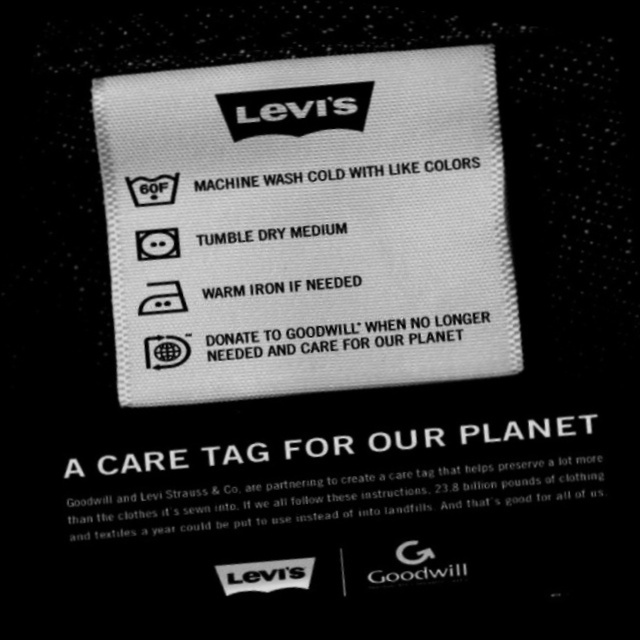30C: (116, 154, 193, 222)
iron_medium: (126, 266, 200, 330)
tumble_dry_medium: (124, 216, 192, 274)
